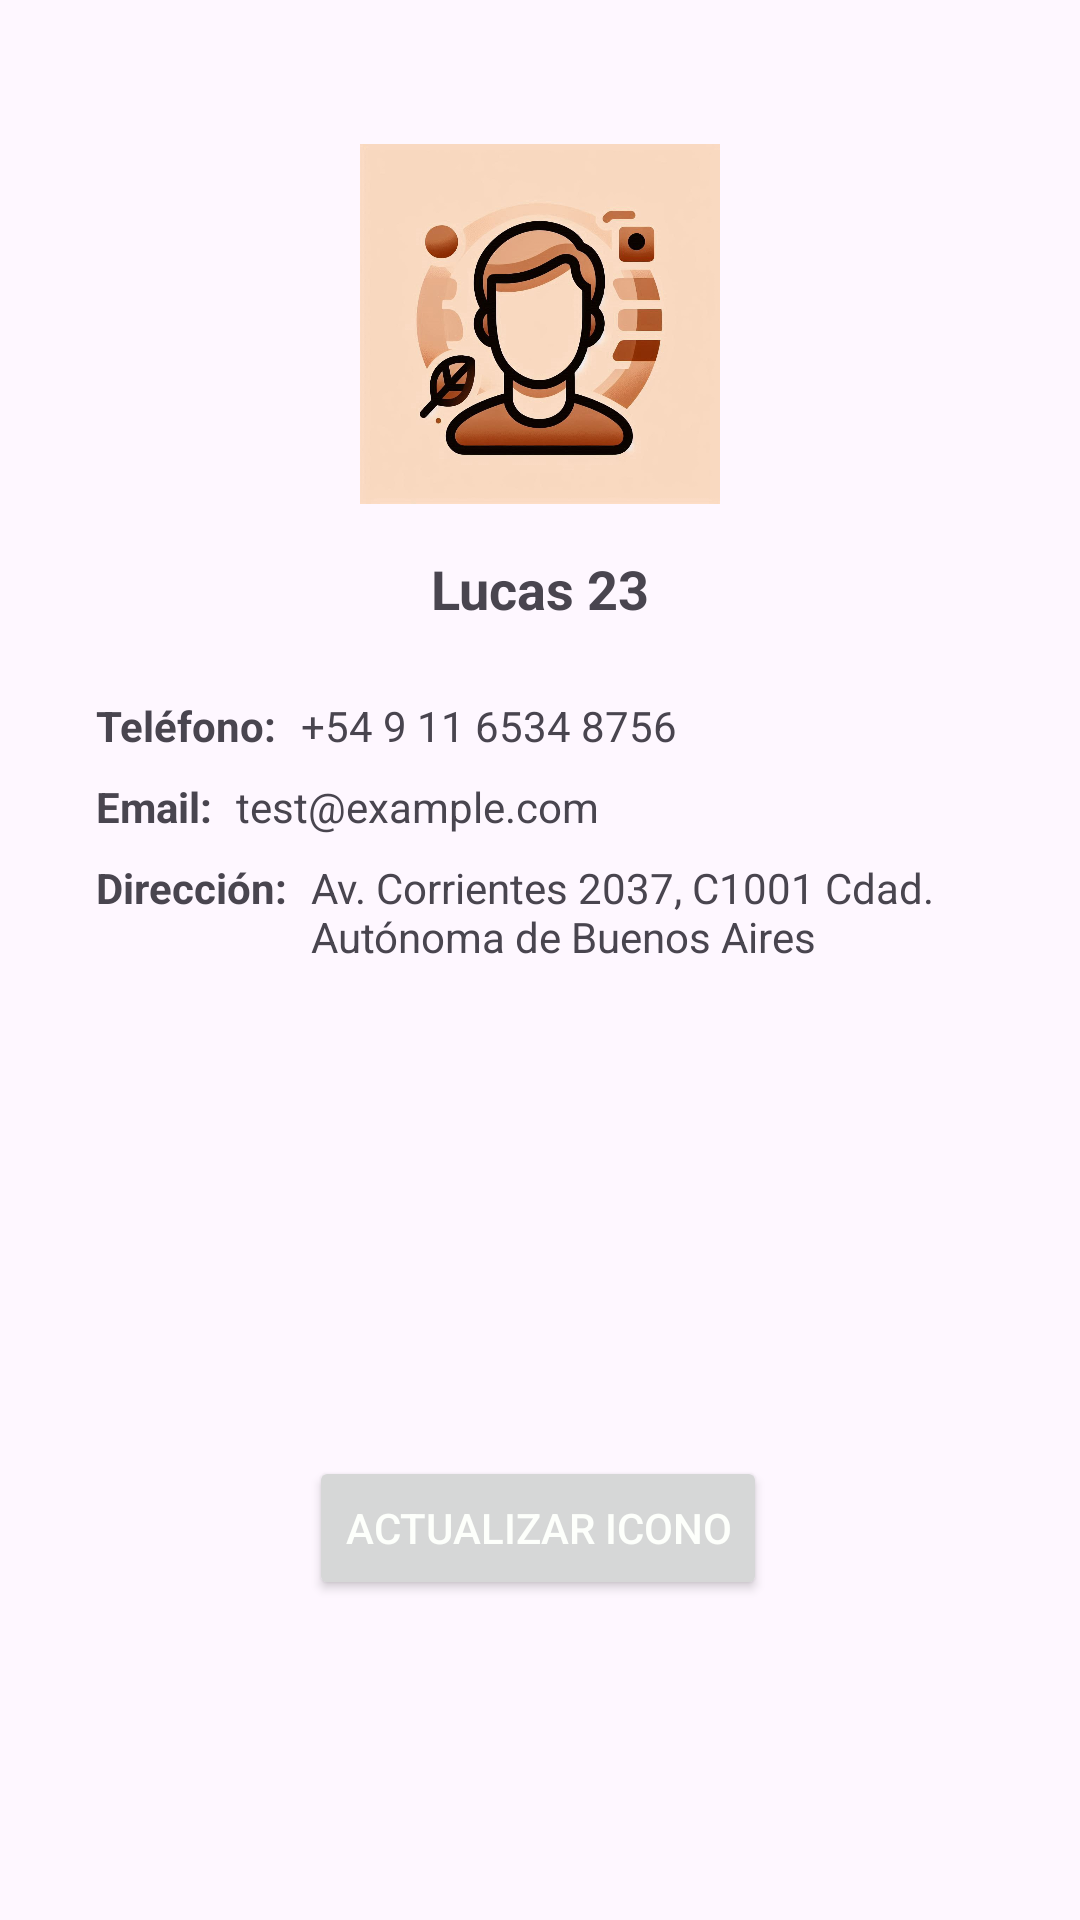

Icon click points for this 1080 × 1920 phone screenshot, format [x,y]:
user profile: [540,324]
